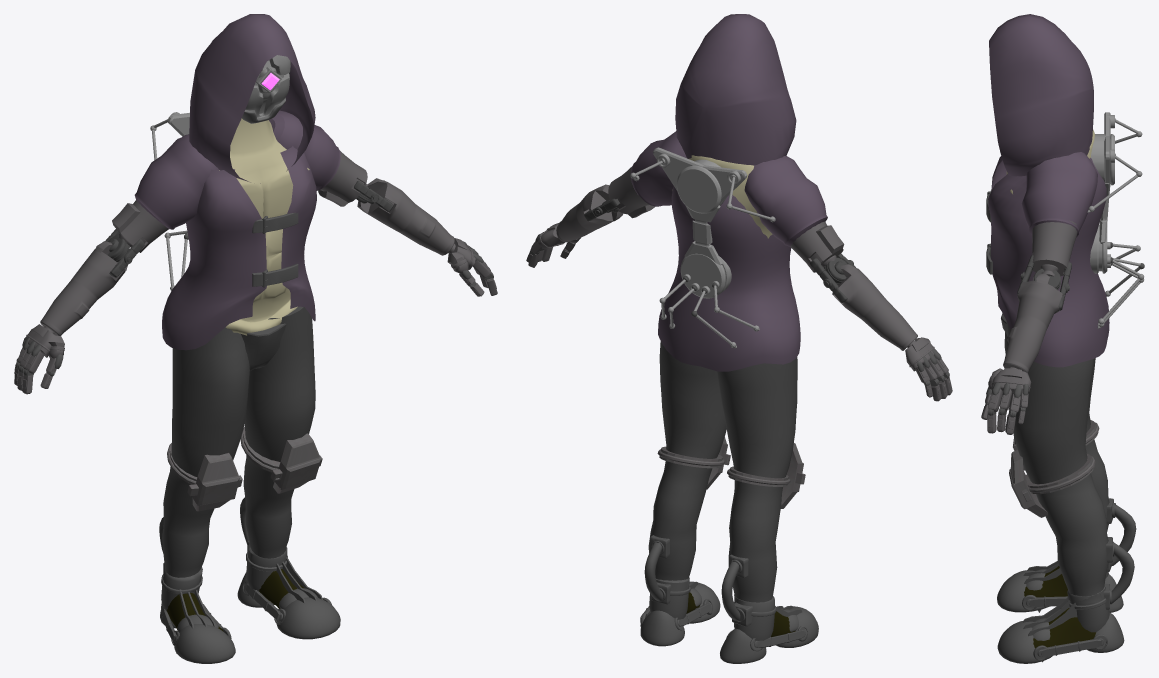
Rendered from hoodie_robot-transformed.glb.
3 views of the same model, side by side, from view 1: azimuth 30°, elevation 25°; view 2: azimuth 150°, elevation 25°; view 3: azimuth 270°, elevation 25° (orthographic). The views are drawn at different scales.
Visible parts, largest first — view 1: polySurface21_lambert6_0, polySurface21_lambert8_0, polySurface21_lambert5_0, polySurface21_lambert1_0, polySurface21_lambert7_0, polySurface21_lambert10_0, polySurface21_lambert2_0, polySurface21_lambert9_0, polySurface21_pasted__lambert2_0, polySurface21_lambert11_0; view 2: polySurface21_lambert6_0, polySurface21_lambert8_0, polySurface21_lambert1_0, polySurface21_lambert5_0, polySurface21_lambert11_0, polySurface21_lambert10_0, polySurface21_lambert9_0, polySurface21_lambert7_0; view 3: polySurface21_lambert6_0, polySurface21_lambert8_0, polySurface21_lambert1_0, polySurface21_lambert5_0, polySurface21_lambert11_0, polySurface21_lambert10_0, polySurface21_pasted__lambert2_0, polySurface21_lambert9_0.
Part boxes in pixels (x1,y1,x2,y2): polySurface21_lambert6_0: (134,14,340,350); polySurface21_lambert8_0: (162,306,315,577); polySurface21_lambert5_0: (14,151,497,394); polySurface21_lambert1_0: (15,212,493,663); polySurface21_lambert7_0: (219,118,309,335); polySurface21_lambert10_0: (167,427,322,511); polySurface21_lambert2_0: (245,55,290,118); polySurface21_lambert9_0: (103,180,393,277); polySurface21_pasted__lambert2_0: (167,569,323,631); polySurface21_lambert11_0: (150,112,189,290); polySurface21_lambert6_0: (630,14,827,371); polySurface21_lambert8_0: (648,341,797,602); polySurface21_lambert1_0: (529,228,949,663); polySurface21_lambert5_0: (526,167,952,401); polySurface21_lambert11_0: (630,147,775,348); polySurface21_lambert10_0: (657,437,805,508); polySurface21_lambert9_0: (584,198,857,302); polySurface21_lambert7_0: (672,155,772,238); polySurface21_lambert6_0: (988,14,1109,367); polySurface21_lambert8_0: (1001,313,1109,603); polySurface21_lambert1_0: (985,189,1144,663); polySurface21_lambert5_0: (981,220,1077,434); polySurface21_lambert11_0: (1087,112,1144,328); polySurface21_lambert10_0: (1009,420,1099,517); polySurface21_pasted__lambert2_0: (1024,566,1095,648); polySurface21_lambert9_0: (1017,255,1071,310).
Bounding box in the file's own units: 142 × 190 × 45.72.
Materials: 12 (2 with a texture image).
